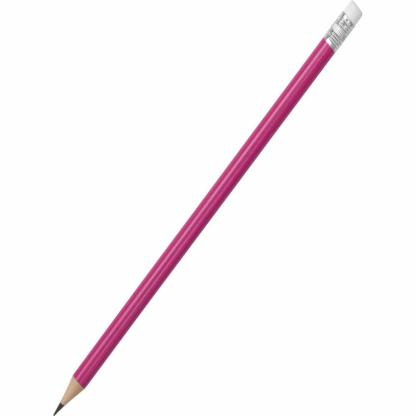pencil: (51, 0, 368, 416)
